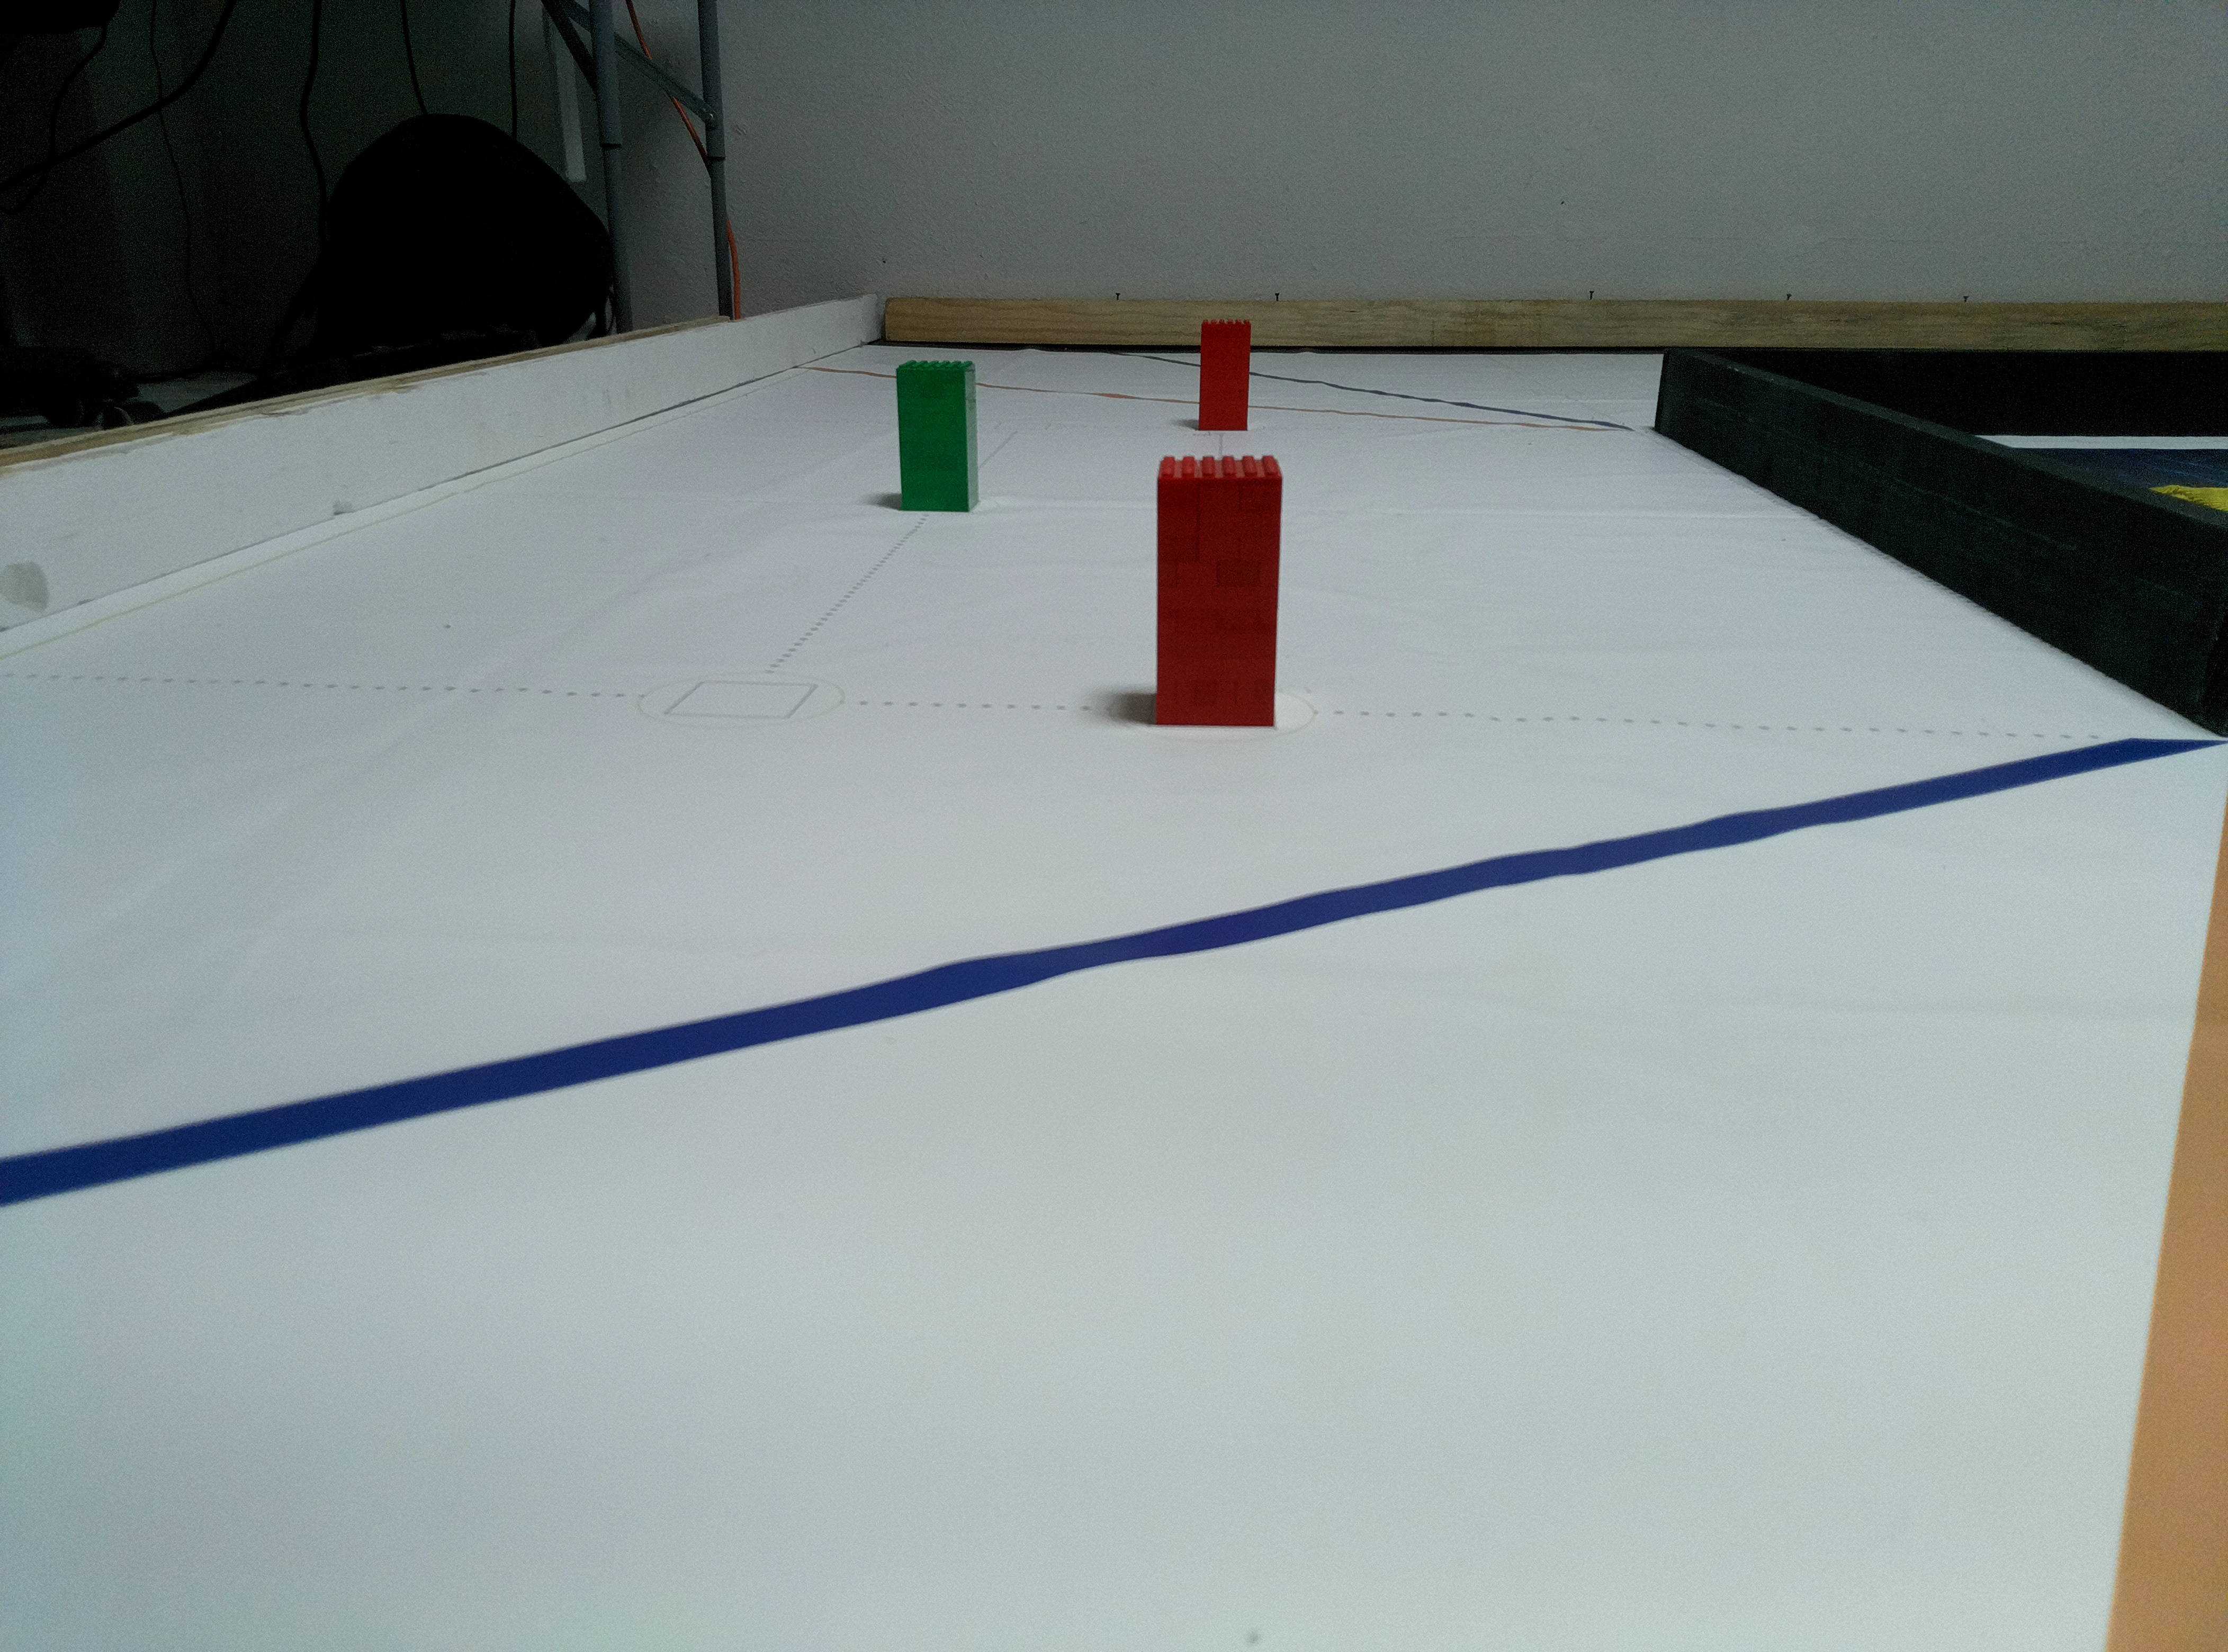greenbox: (894, 357, 980, 512)
redbox: (1150, 455, 1281, 729), (1199, 316, 1253, 430)
